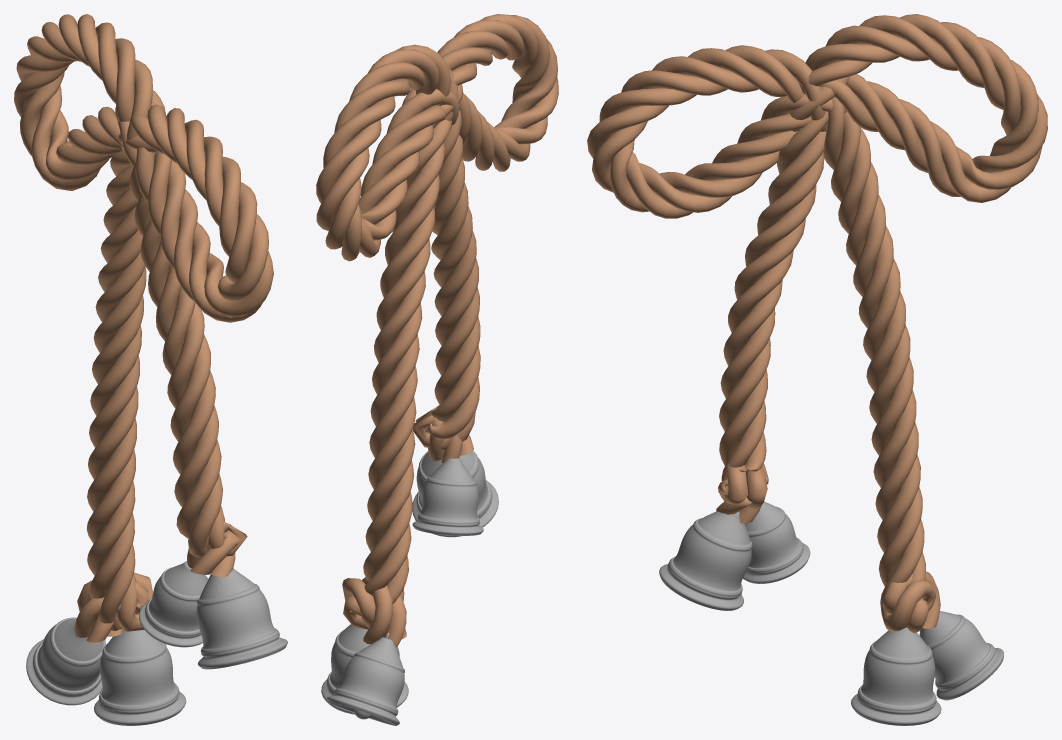
Rendered from rope_with_bells.fbx.
3 renders of one model, left to right at view 1: azimuth 30°, elevation 25°; view 2: azimuth 150°, elevation 25°; view 3: azimuth 270°, elevation 25°, orthographic. The views are drawn at different scales.
Visible parts, largest first — view 1: Rope, Bell 1, Bell 2; view 2: Rope, Bell 1, Bell 2; view 3: Rope, Bell 1, Bell 2.
Part boxes in pixels (x1,y1,x2,y2): Rope: (14, 14, 273, 642); Bell 1: (26, 617, 186, 725); Bell 2: (138, 561, 287, 669); Rope: (316, 14, 558, 647); Bell 1: (321, 624, 408, 725); Bell 2: (412, 450, 498, 537); Rope: (587, 14, 1047, 633); Bell 1: (851, 611, 1003, 725); Bell 2: (659, 501, 810, 610).
Bounding box in the file's own units: 10.72 × 62.12 × 38.06.
